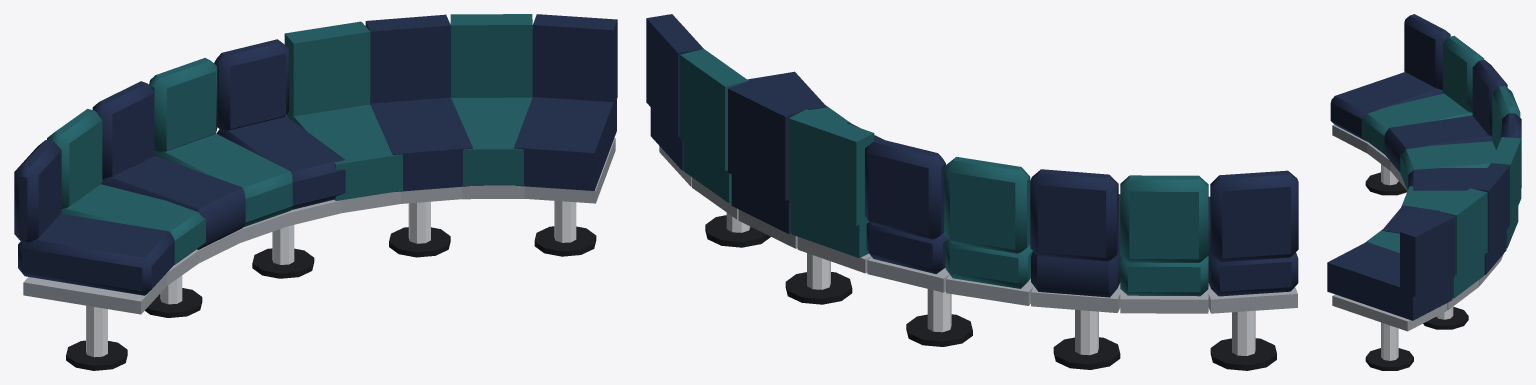
Rendered from bench_curved_lounge_bench.glb.
3 renders of one model, left to right at view 1: azimuth 30°, elevation 25°; view 2: azimuth 150°, elevation 25°; view 3: azimuth 270°, elevation 25°, orthographic. The views are drawn at different scales.
Visible parts, largest first — view 1: bench_curved_lounge_bench; view 2: bench_curved_lounge_bench; view 3: bench_curved_lounge_bench.
Boxes of the visible parts, x1,y1,x2,y2 form: bench_curved_lounge_bench: (14, 14, 617, 370); bench_curved_lounge_bench: (646, 14, 1298, 370); bench_curved_lounge_bench: (1327, 14, 1521, 370).
Size of the model in its own units: 2.42 by 0.753 by 0.8826.
